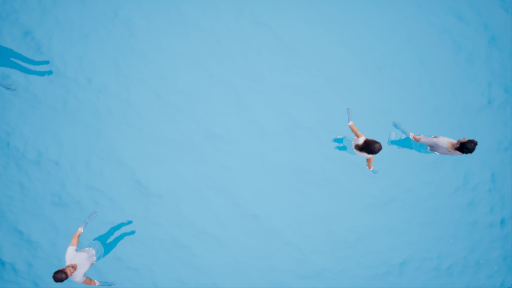person: (54, 211, 138, 287), (389, 117, 479, 163), (333, 104, 385, 176)
